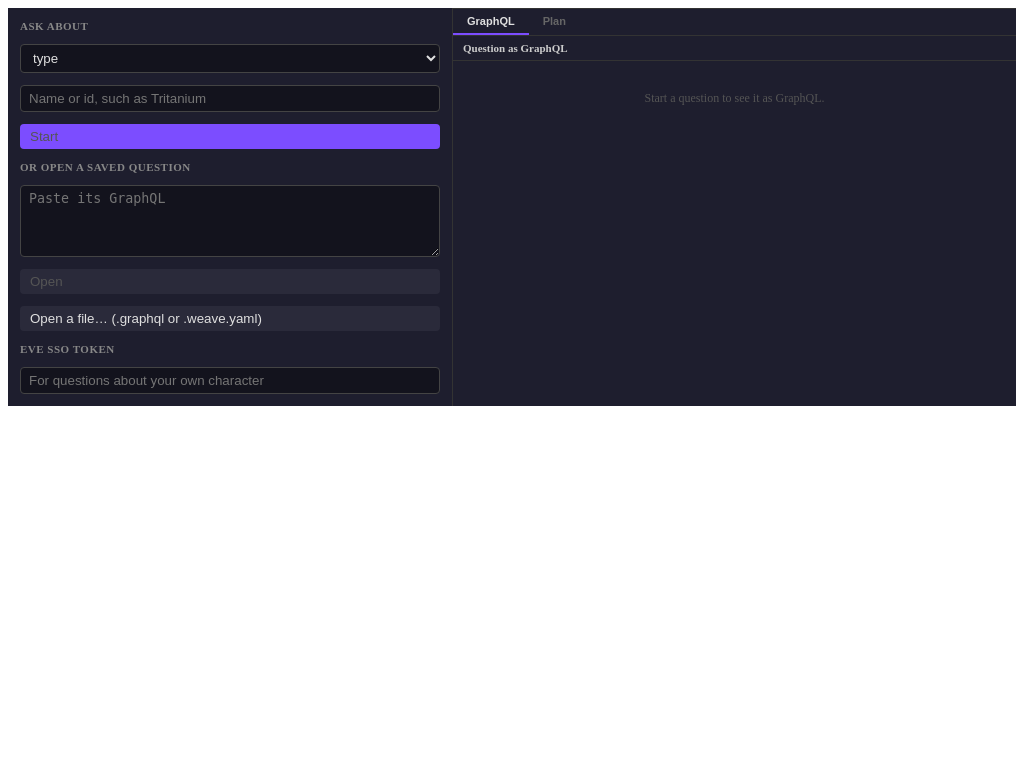
Test: the three modes over one store › Explore offers subjects and moves and draws no canvas
Type "Tritanium" into the field labelled "Name or id". click: [230, 98]
box: [20,85,440,112]
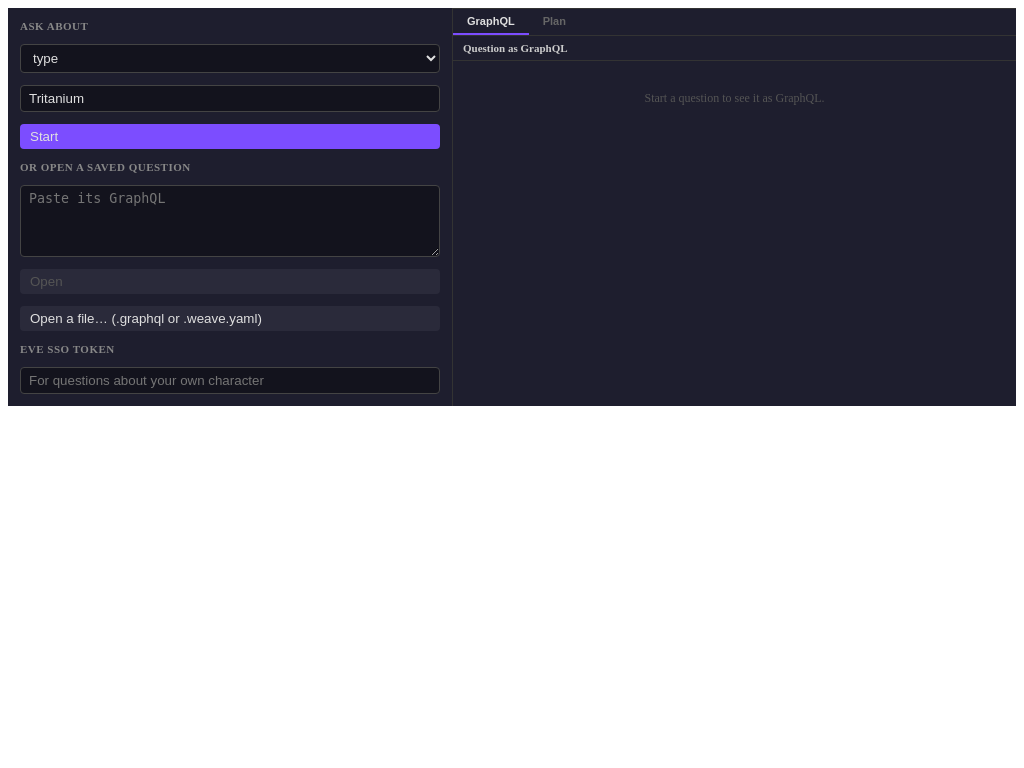
Click the button "Start". click: [44, 136]
box: [20,124,440,149]
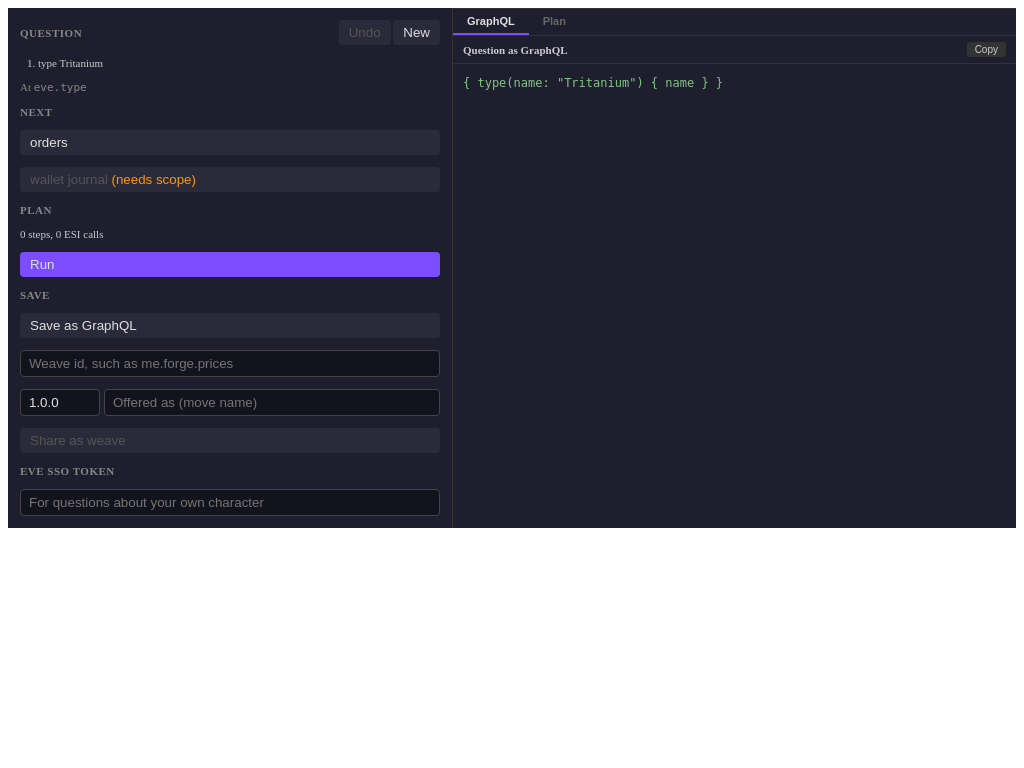
Result: the text "Next" is shown at [20,106,53,118]
Result: the button "orders" is shown at [20,130,440,155]
Result: the text "{ type(name: \"Tritanium\") { name } }" is shown at [463,76,723,90]
